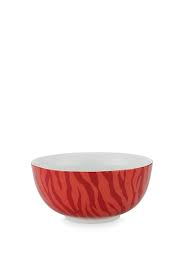bowl: (27, 148, 157, 226)
